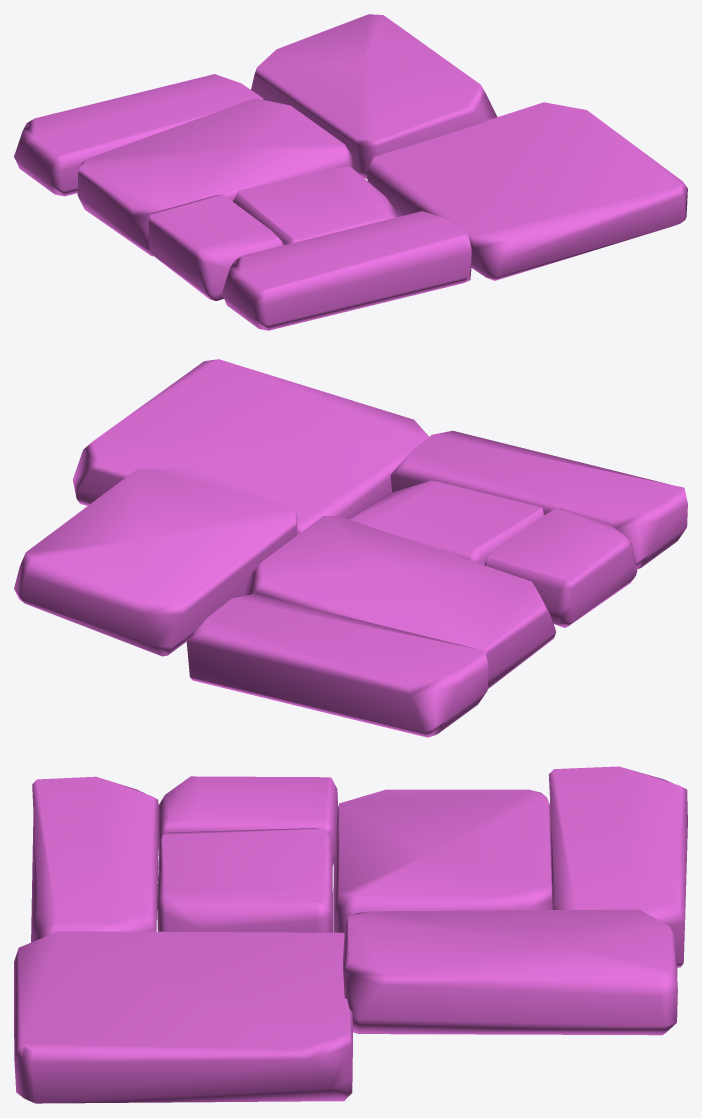
The model's file is Fireplace_02D_Lod0.fbx.
The picture shows the model from 3 angles, top to bottom: view 1: azimuth 30°, elevation 25°; view 2: azimuth 150°, elevation 25°; view 3: azimuth 270°, elevation 25°; orthographic projection. The views are drawn at different scales.
Parts seen in each view (by area): view 1: Fireplace_02D_Lod0; view 2: Fireplace_02D_Lod0; view 3: Fireplace_02D_Lod0.
Part boxes in pixels (x1,y1,x2,y2): Fireplace_02D_Lod0: (14, 14, 687, 330); Fireplace_02D_Lod0: (14, 359, 687, 737); Fireplace_02D_Lod0: (14, 766, 687, 1103).
Size of the model in its own units: 163 by 26.87 by 155.
